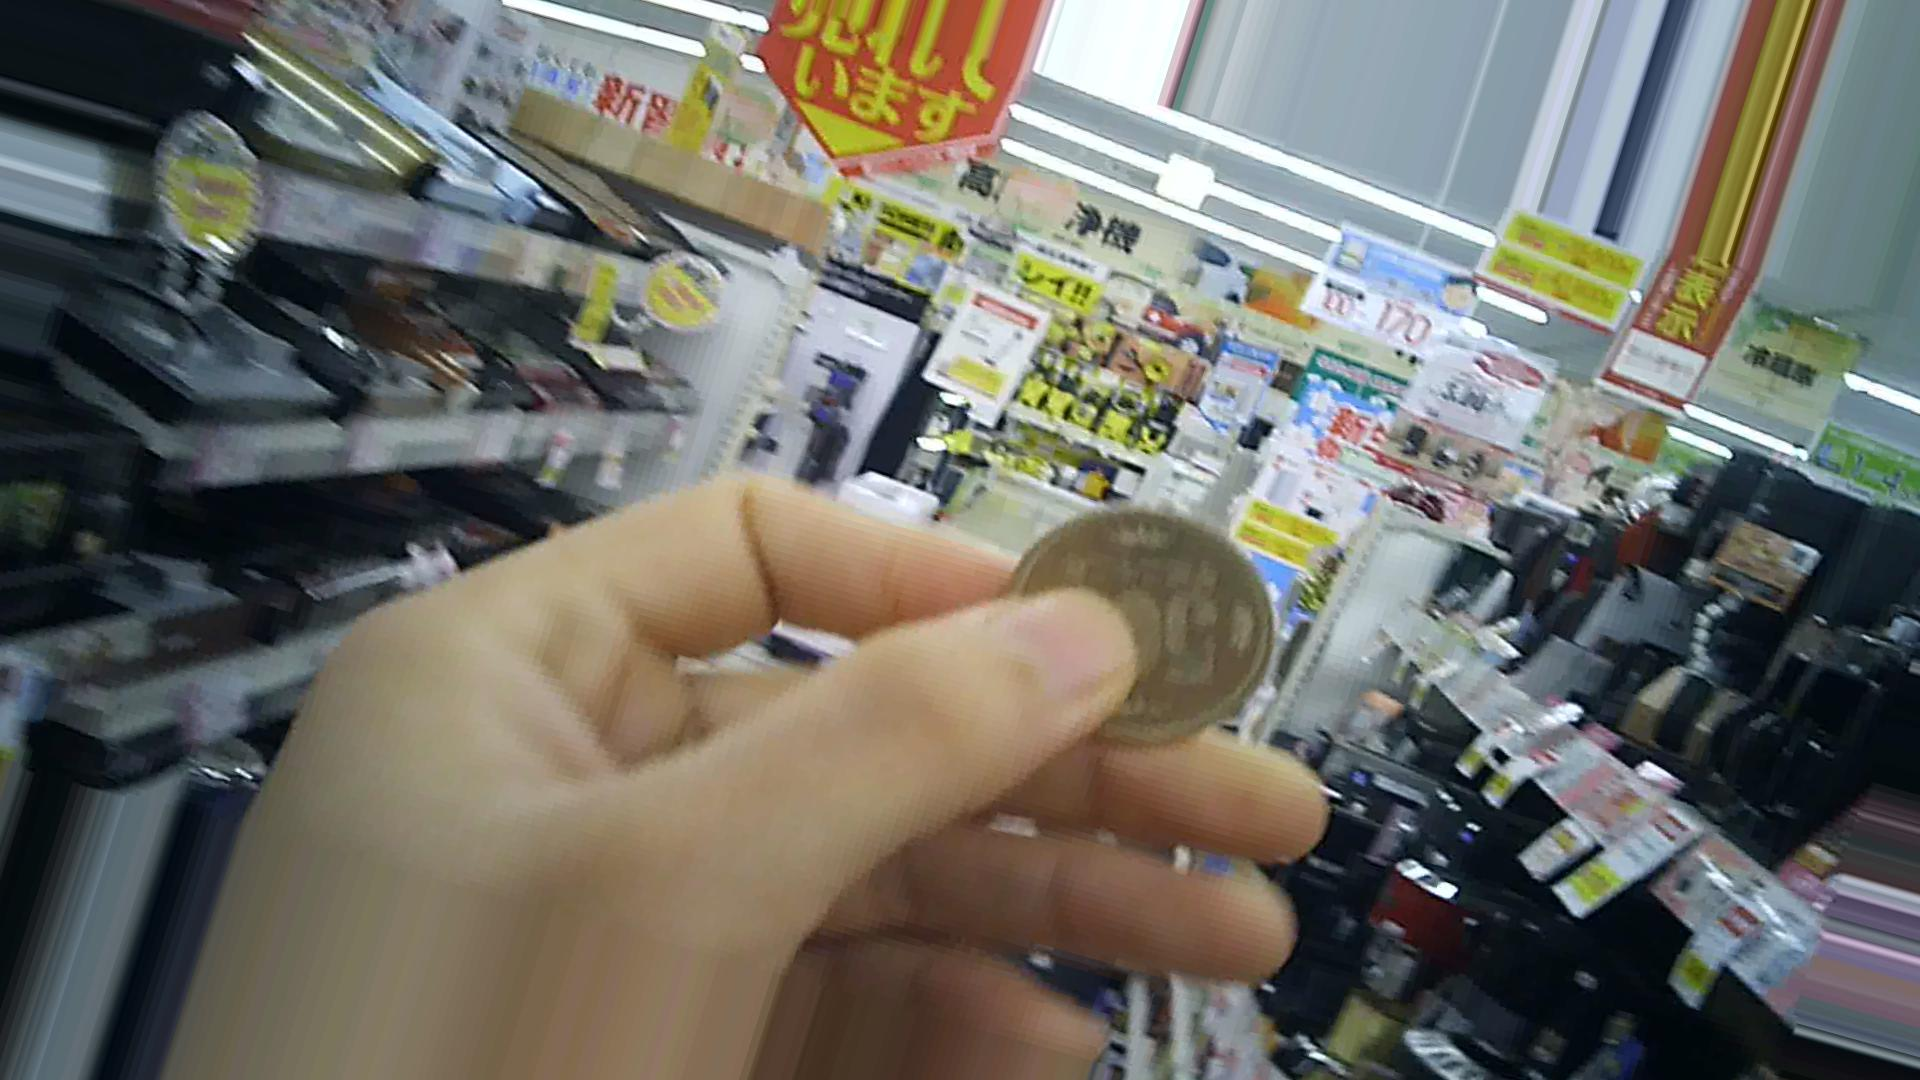500 Yen: (1004, 492, 1269, 728)
